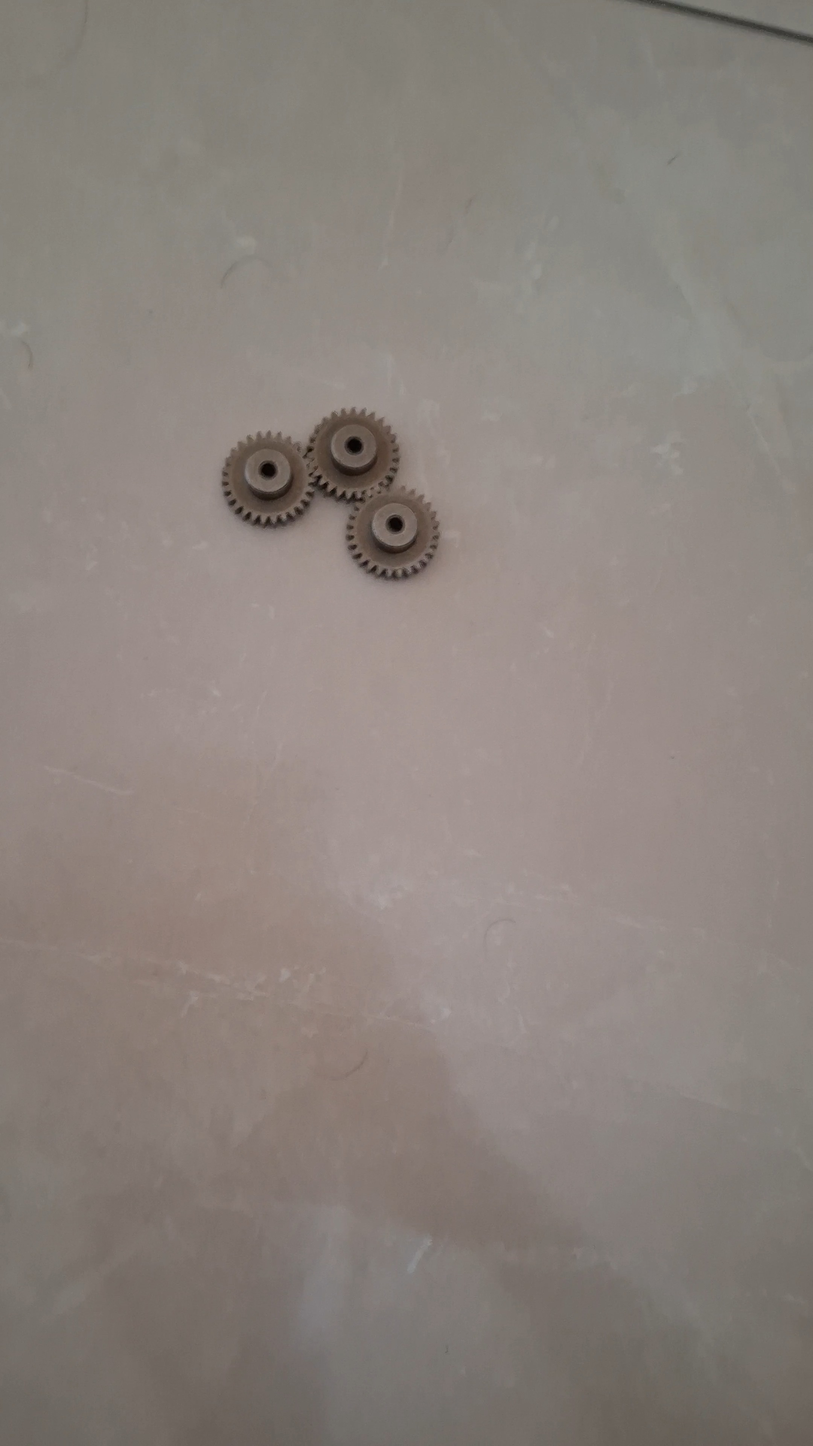spur gear: (222, 434, 314, 526), (306, 410, 399, 501), (346, 488, 439, 578)
